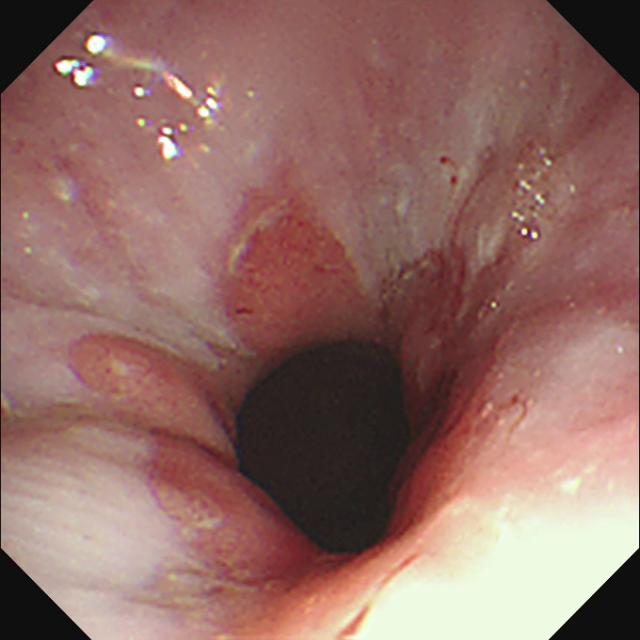E: (261, 343, 409, 524)
U: (169, 75, 221, 121), (56, 57, 97, 90), (158, 128, 180, 161), (85, 33, 110, 55)
